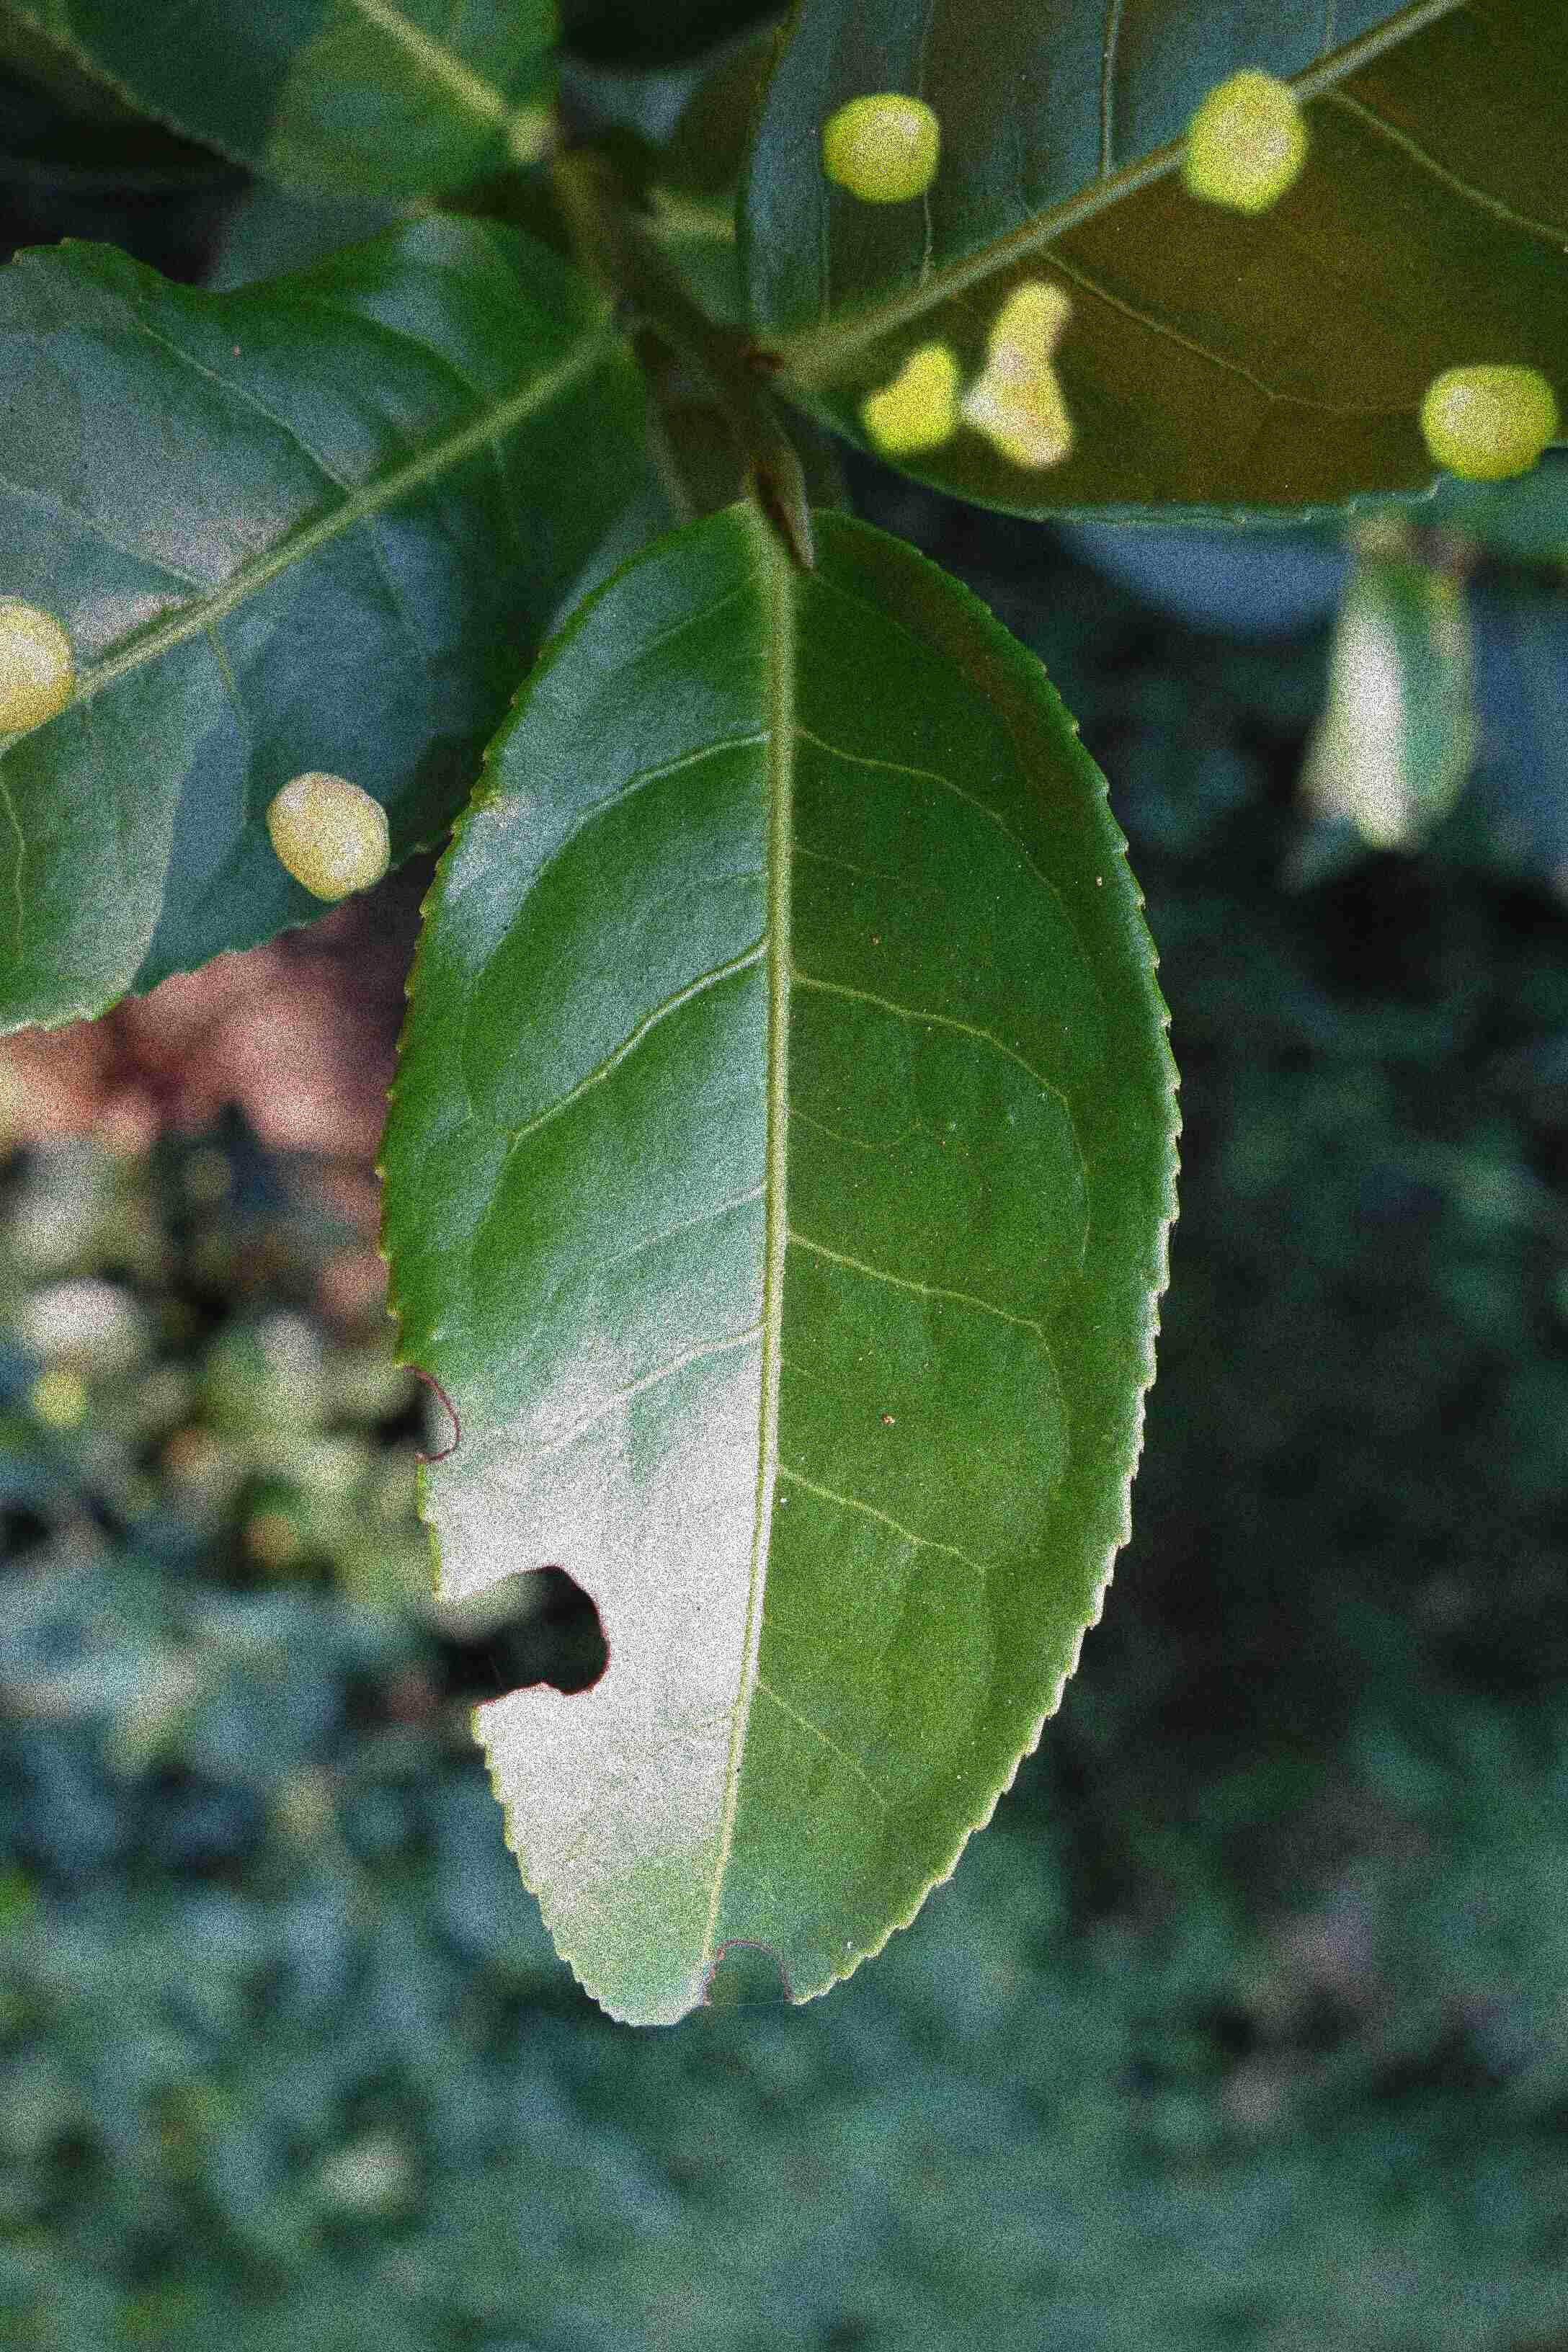chabing_high: (3, 222, 672, 1038), (731, 5, 1564, 532)
chihuo_high: (380, 499, 1186, 2033)
